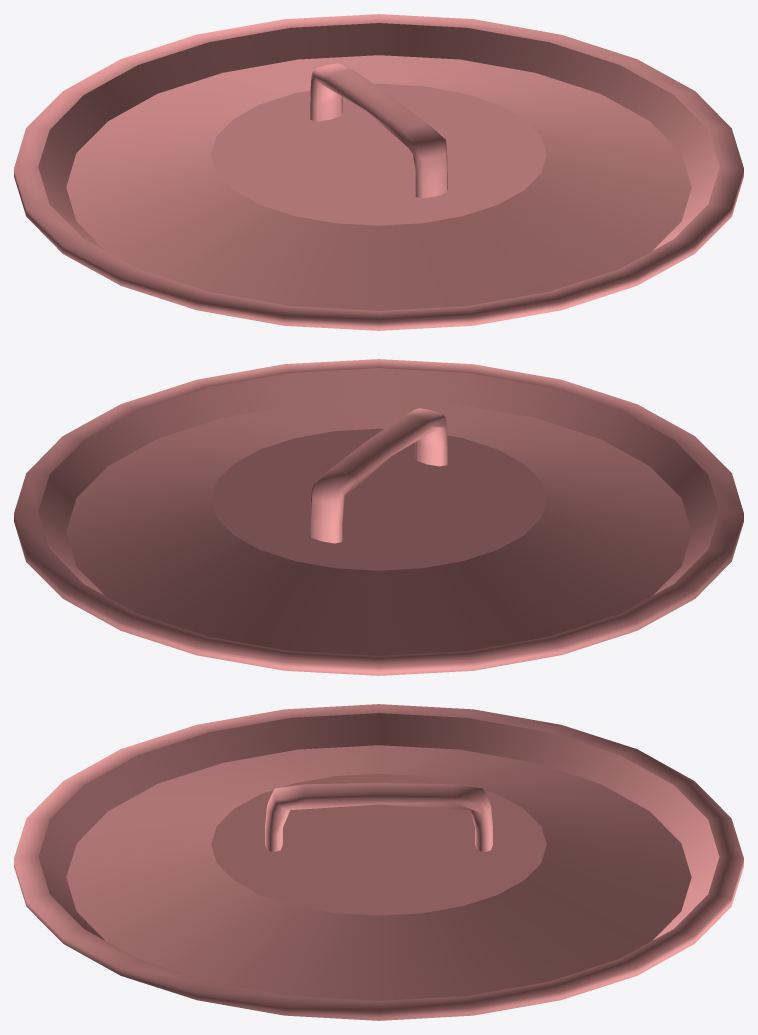
Rendered from TFYK_saucepan_cap_big_high_poly.FBX.
3 views of the same model, one above another, from view 1: azimuth 30°, elevation 25°; view 2: azimuth 150°, elevation 25°; view 3: azimuth 270°, elevation 25° (orthographic).
Visible parts, largest first — view 1: TFYK_saucepan_cap_big_high_poly; view 2: TFYK_saucepan_cap_big_high_poly; view 3: TFYK_saucepan_cap_big_high_poly.
Part boxes in pixels (box(x1,y1,x2,y2)): TFYK_saucepan_cap_big_high_poly: box(14, 14, 743, 330); TFYK_saucepan_cap_big_high_poly: box(14, 359, 743, 675); TFYK_saucepan_cap_big_high_poly: box(14, 704, 743, 1020).
Size of the model in its own units: 0.247 by 0.0354 by 0.247.
